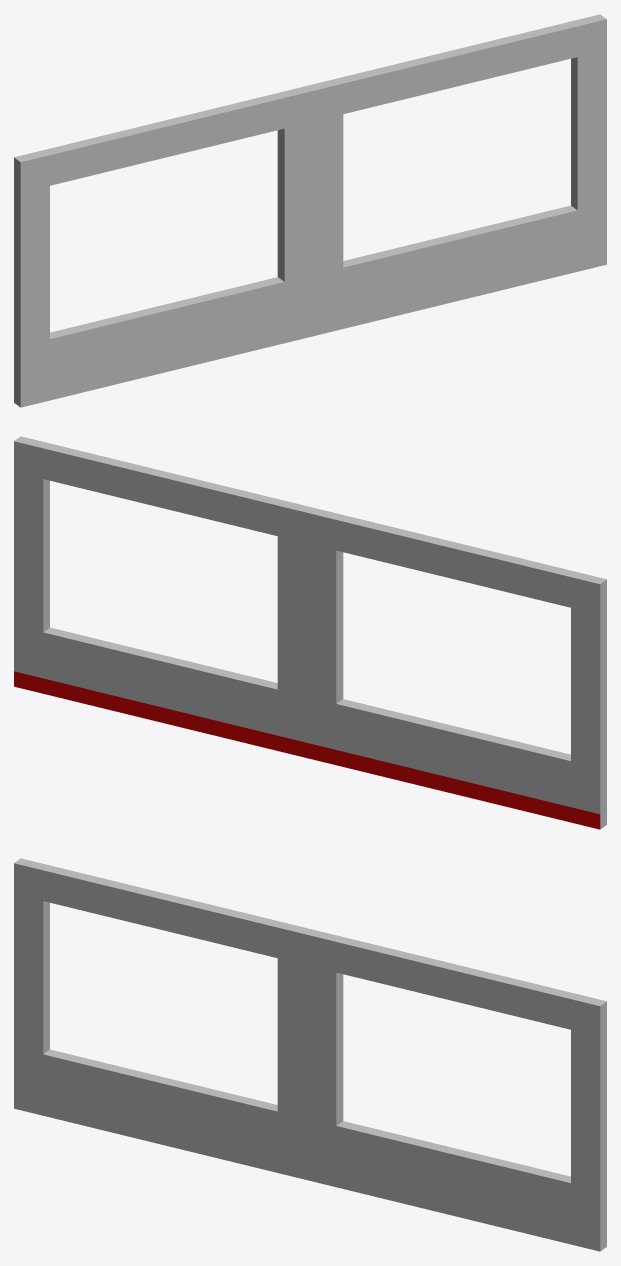
File: Classroom_Windows_Wall_01_Snaps014.fbx
3 renders of one model, top to bottom at view 1: azimuth 30°, elevation 25°; view 2: azimuth 150°, elevation 25°; view 3: azimuth 330°, elevation 25°, orthographic.
Visible parts, largest first — view 1: Classroom_Windows_Wall_01_LOD00; view 2: Classroom_Windows_Wall_01_LOD00; view 3: Classroom_Windows_Wall_01_LOD00.
Part boxes in pixels (<box>): Classroom_Windows_Wall_01_LOD00: <box>14,14,606,407</box>; Classroom_Windows_Wall_01_LOD00: <box>14,436,606,829</box>; Classroom_Windows_Wall_01_LOD00: <box>14,858,606,1251</box>.
Size of the model in its own units: 1000 by 400 by 20.
